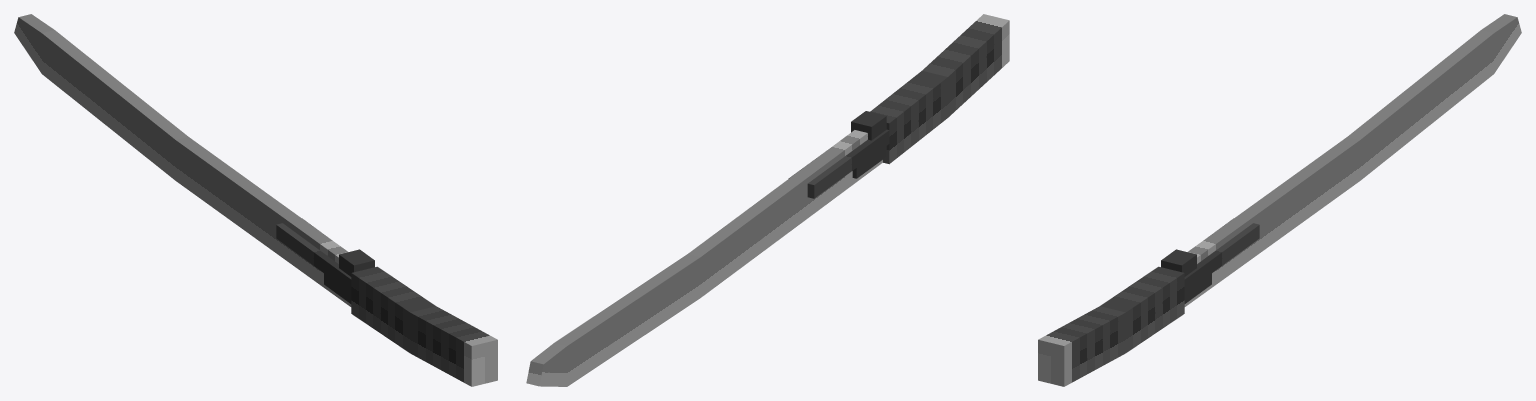
File: hfprot.fbx
3 views of the same model, side by side, from view 1: azimuth 30°, elevation 25°; view 2: azimuth 150°, elevation 25°; view 3: azimuth 330°, elevation 25° (orthographic).
Parts seen in each view (by area): view 1: cube_1, cube_2, cube; view 2: cube_1, cube_2, cube; view 3: cube_1, cube_2, cube.
Boxes of the visible parts, x1,y1,x2,y2 form: cube_1: (14,14,351,306); cube_2: (351,266,497,386); cube: (276,218,374,303); cube_1: (526,130,882,386); cube_2: (870,14,1009,164); cube: (788,111,889,198); cube_1: (1184,14,1521,306); cube_2: (1038,266,1184,386); cube: (1161,218,1259,303).
Size of the model in its own units: 12.5 by 26.56 by 386.
1 material, 1 textured.
